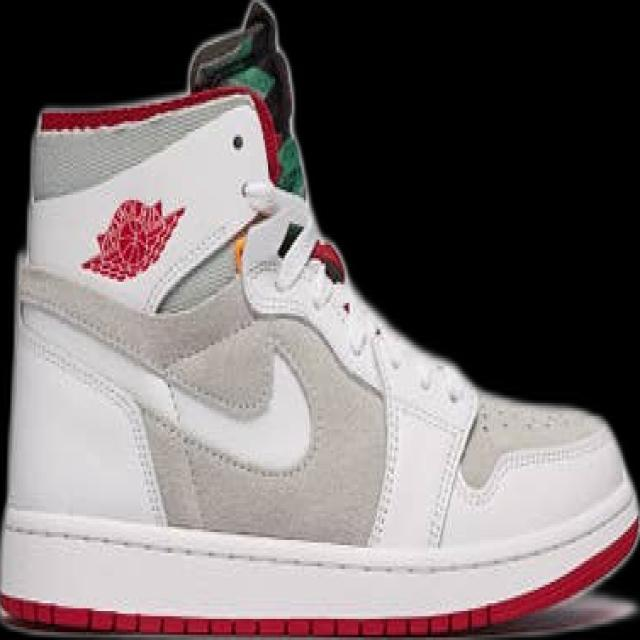J1_InsoleChar: (1, 2, 636, 636)
J1_MateComp: (24, 83, 277, 315)
J1_ShoeLogo: (79, 196, 186, 282)
J1_StitchPattern: (14, 246, 477, 553), (242, 232, 480, 548), (16, 263, 327, 481), (3, 502, 636, 581), (19, 316, 169, 525), (422, 399, 482, 551), (364, 326, 403, 547)
